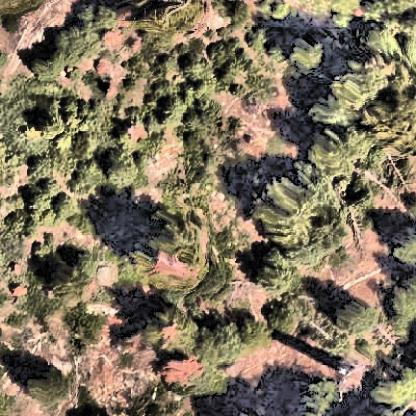tree-top: (252, 161, 359, 269), (309, 119, 371, 180), (330, 291, 388, 347), (365, 97, 416, 155), (20, 358, 75, 409), (265, 291, 315, 345), (65, 5, 116, 57), (366, 359, 416, 411), (22, 42, 79, 84), (91, 141, 137, 192), (233, 312, 282, 359), (20, 99, 74, 141), (173, 44, 221, 84), (380, 279, 416, 332), (286, 34, 332, 75), (338, 67, 390, 103), (353, 26, 398, 63), (67, 242, 103, 282), (154, 91, 189, 127)
